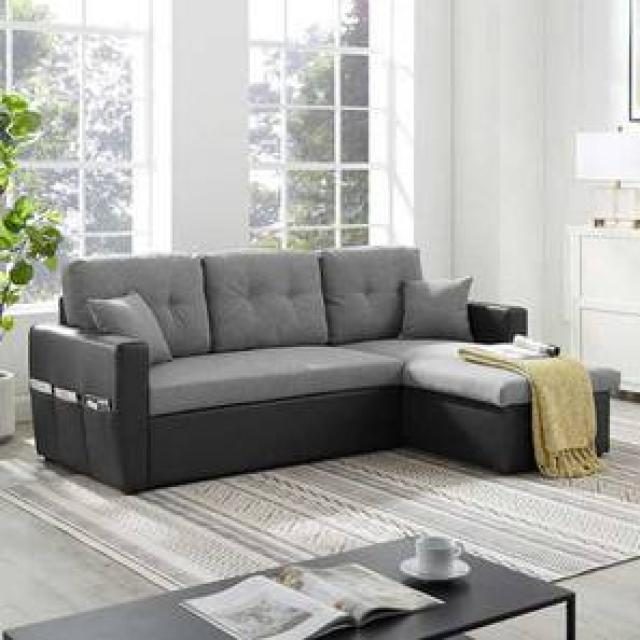sofa: (27, 238, 628, 486)
